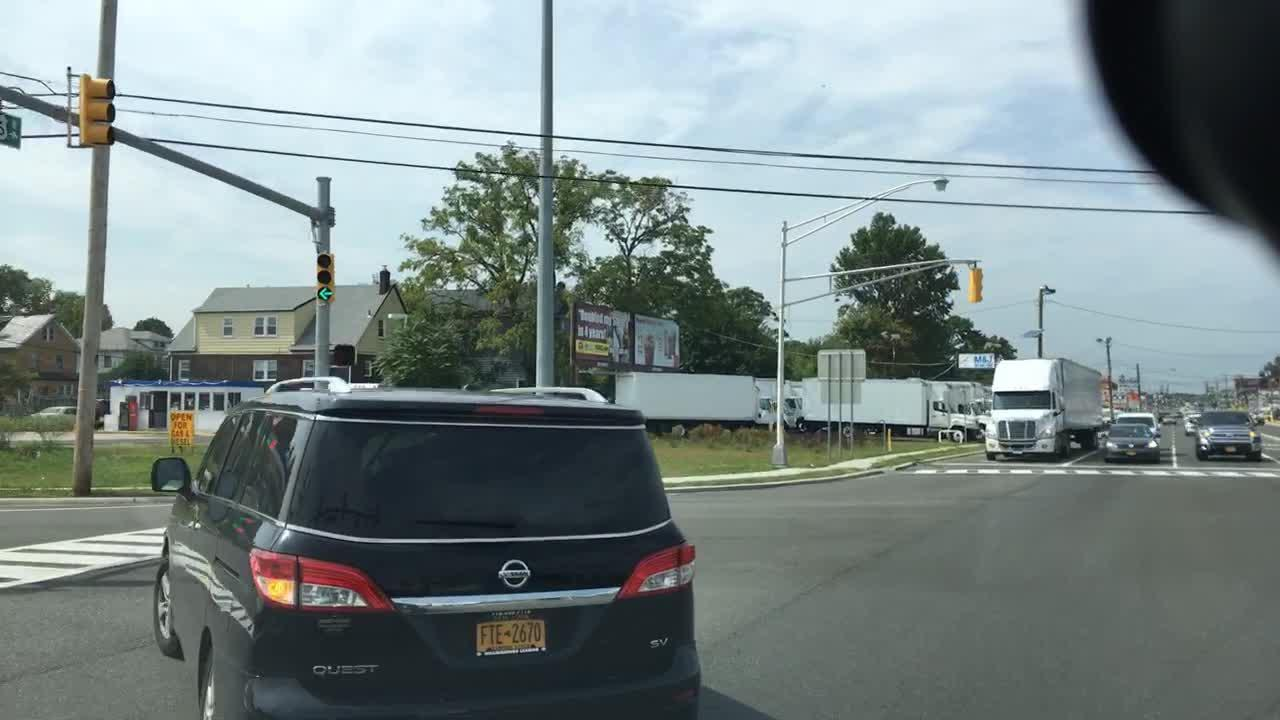Nissan: (489, 557, 539, 593)
